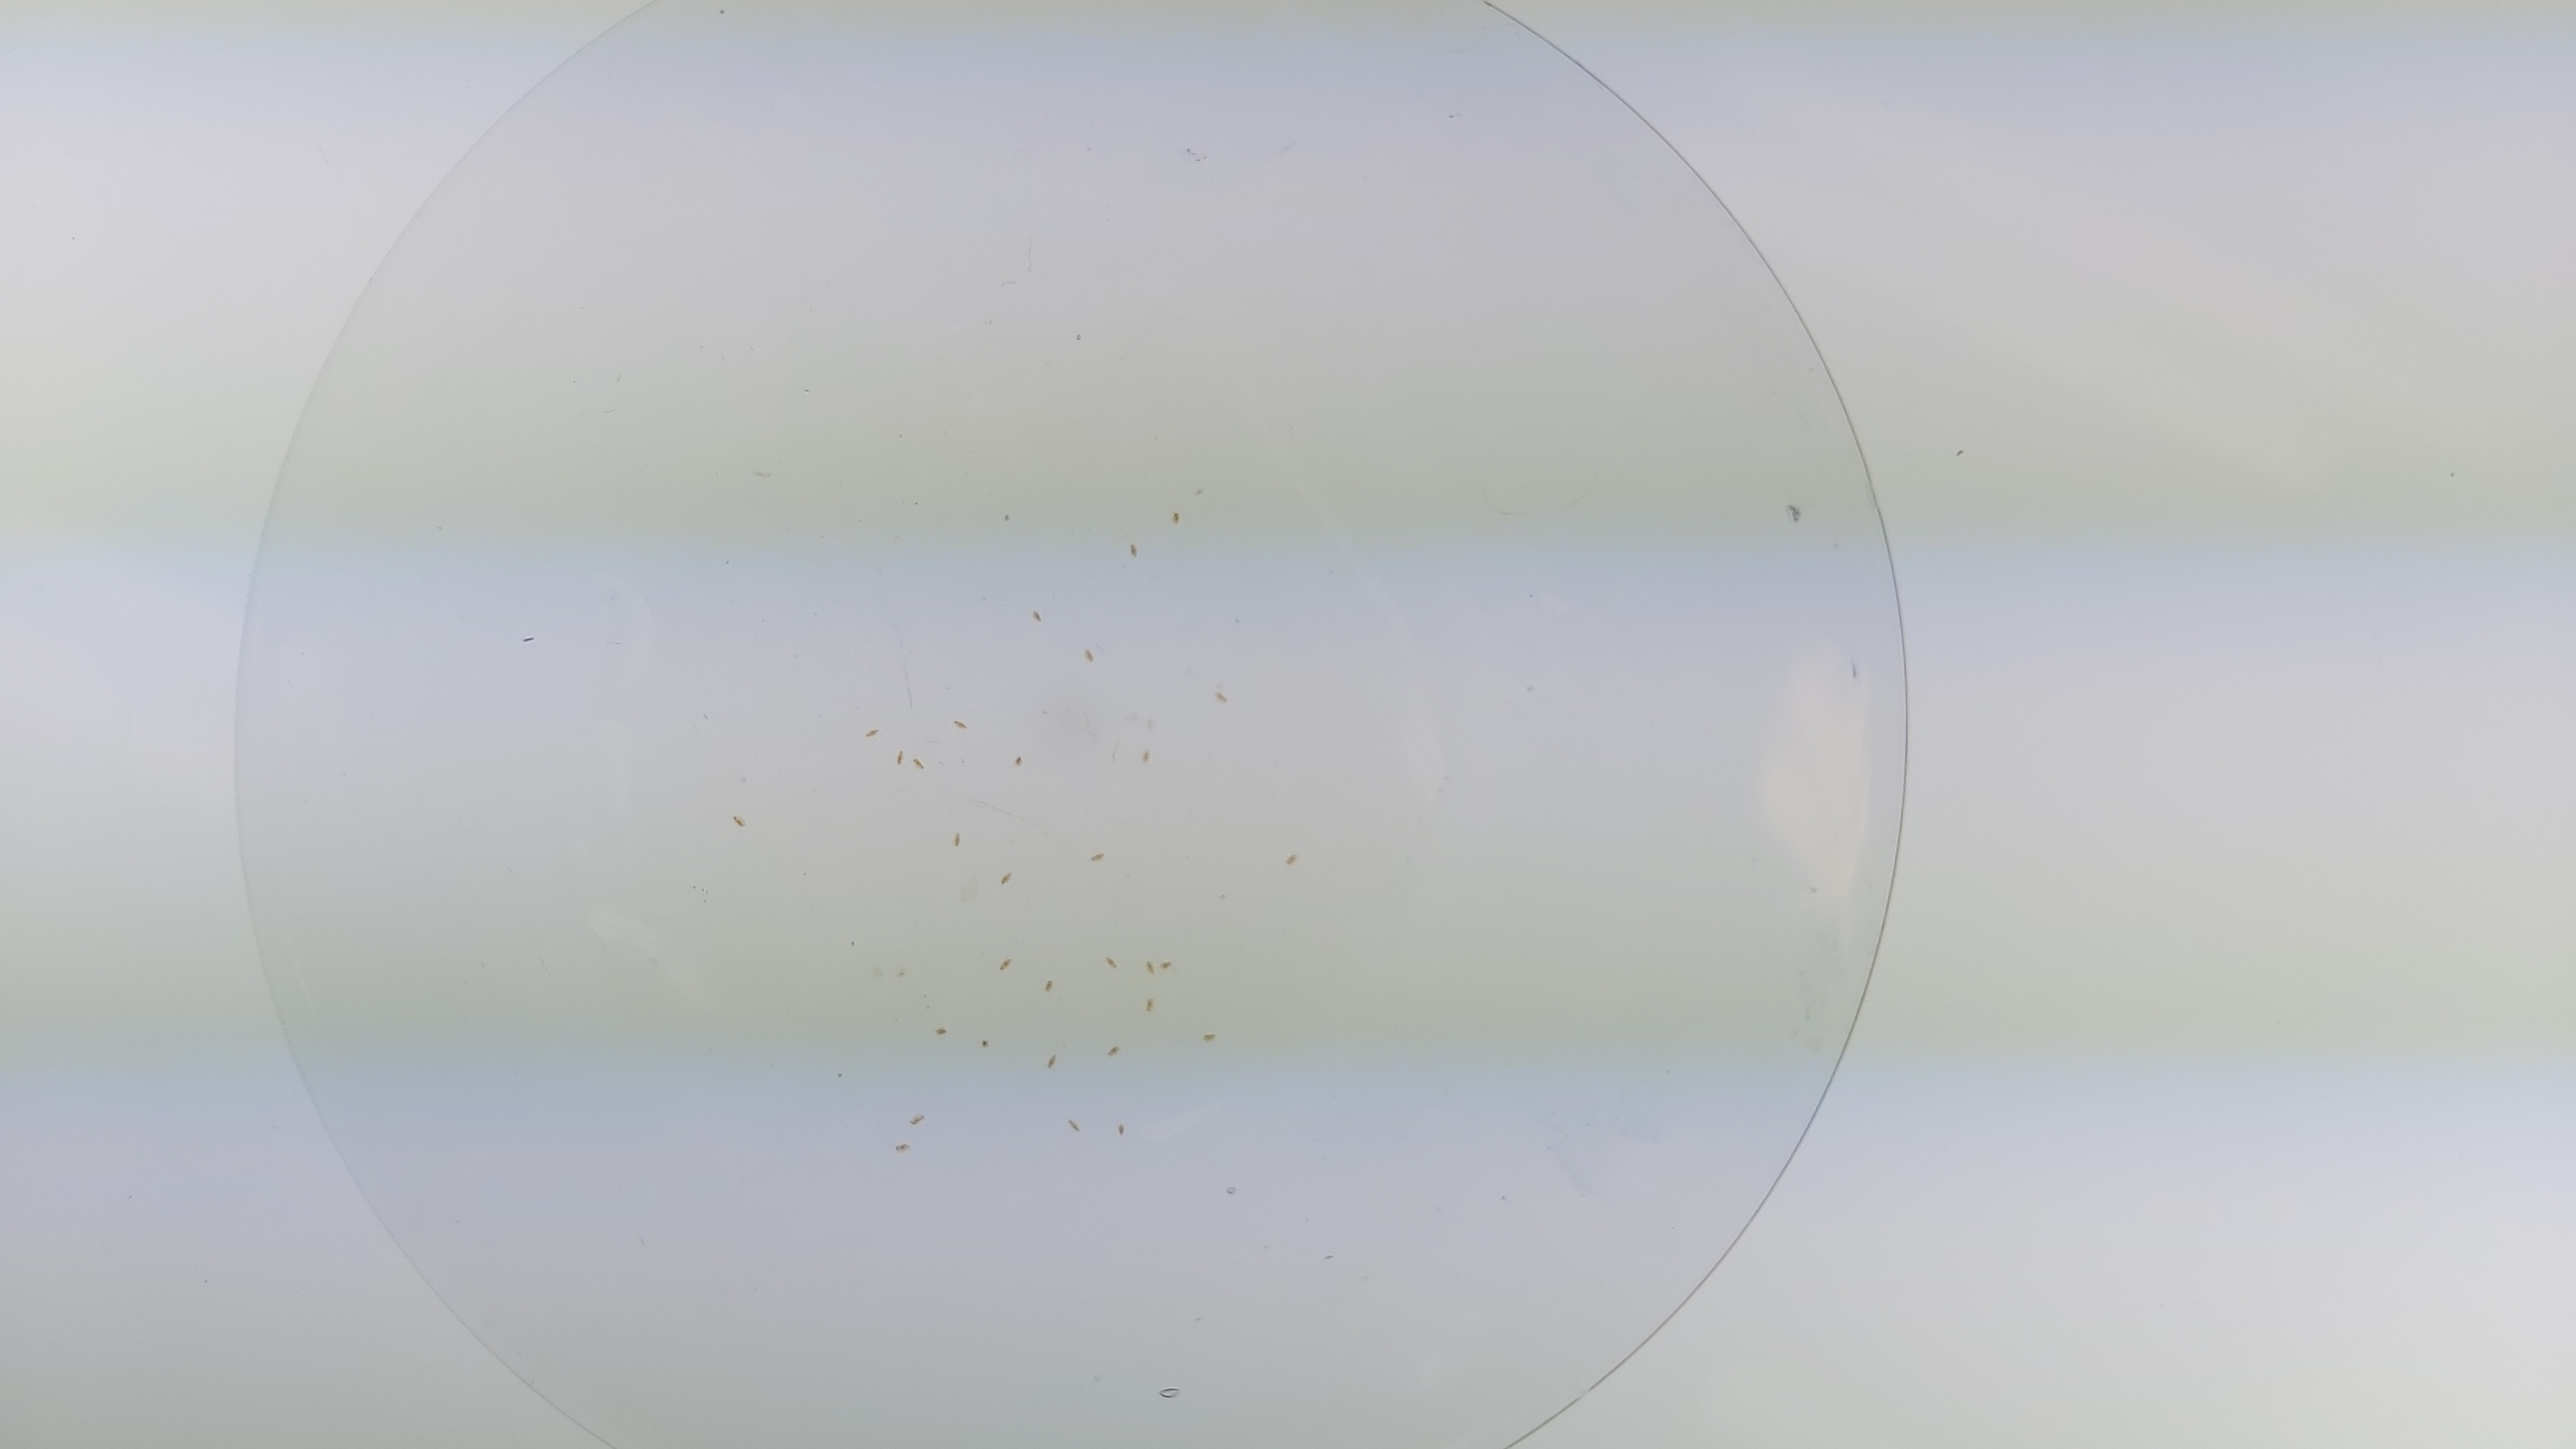D.magna: (892, 1143, 915, 1157), (911, 755, 927, 771), (1212, 690, 1230, 704), (1104, 957, 1120, 971), (1030, 607, 1044, 623), (731, 814, 747, 828), (1090, 851, 1108, 863), (1069, 1118, 1083, 1132), (998, 957, 1012, 971), (1284, 851, 1299, 865), (909, 1113, 925, 1125), (865, 727, 881, 740), (1083, 646, 1095, 662), (931, 1026, 948, 1037), (1106, 1044, 1120, 1056), (954, 718, 968, 731), (1129, 543, 1139, 559), (1047, 1054, 1058, 1069), (1145, 996, 1155, 1010), (1044, 978, 1054, 993), (1145, 959, 1155, 973), (1000, 872, 1014, 883), (952, 832, 962, 846), (895, 750, 904, 766), (1171, 511, 1182, 524), (1118, 1122, 1127, 1136), (1141, 750, 1150, 764), (1161, 959, 1173, 968), (1203, 1033, 1215, 1042)
